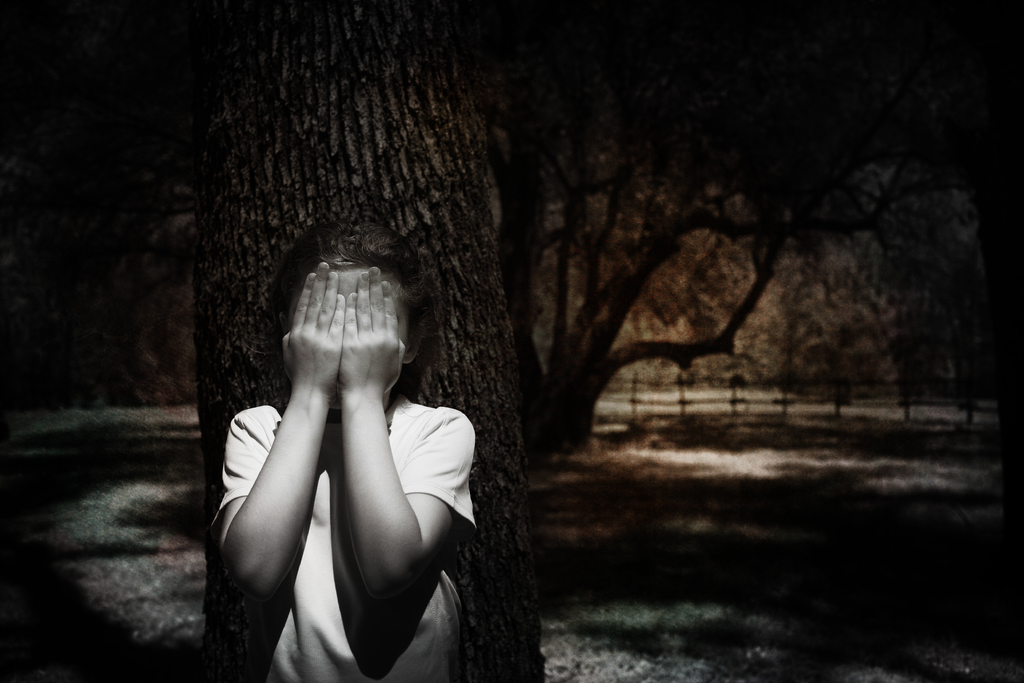Human_hand: (255, 286, 424, 434), (342, 265, 407, 395)
